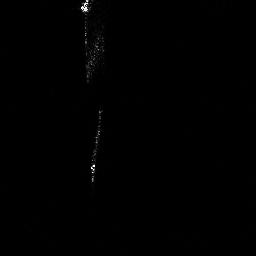ship: (78, 1, 106, 86), (87, 105, 105, 185)
